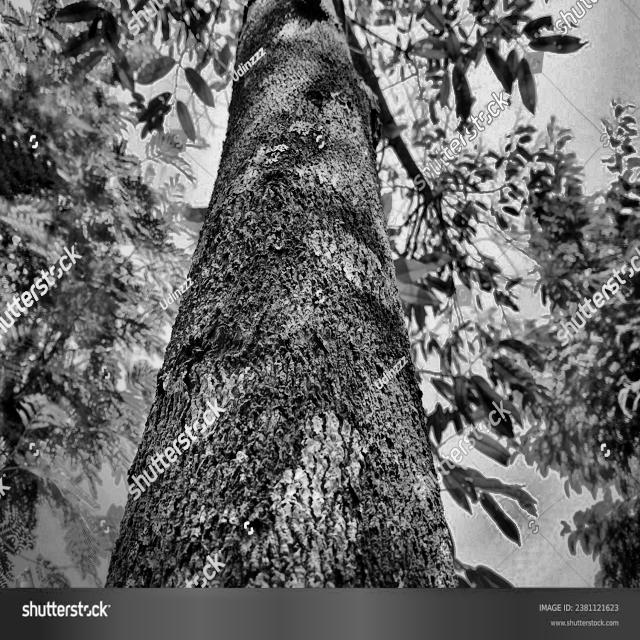arvore: (93, 0, 467, 591)
